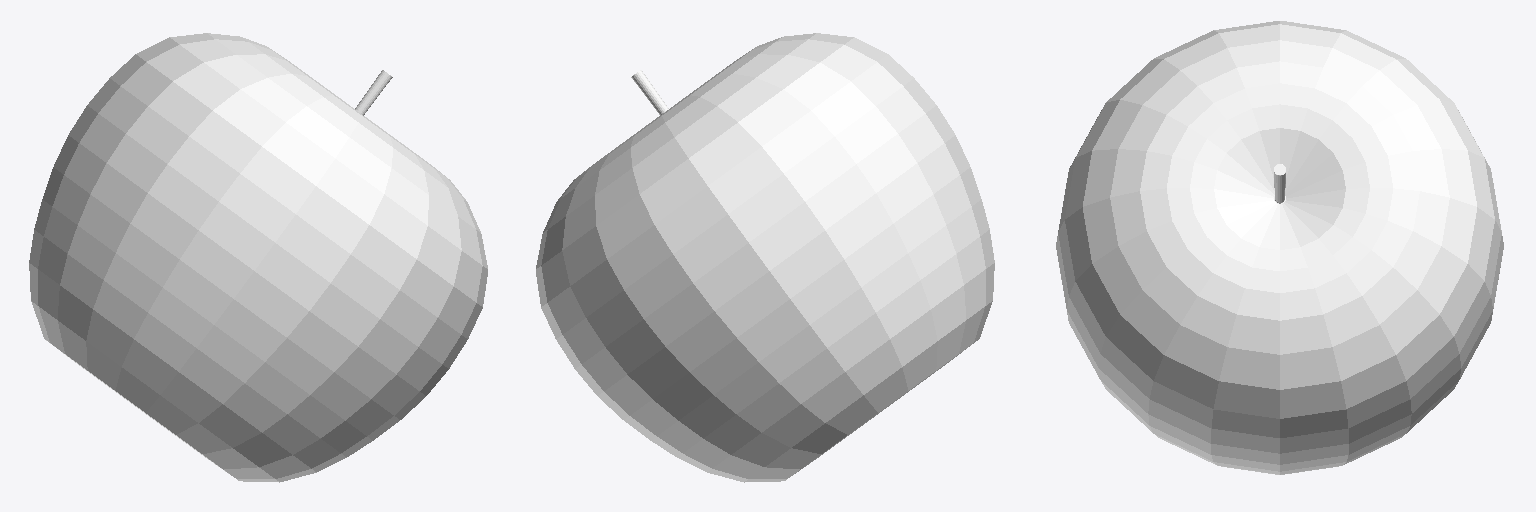
File: apple3d.obj
3 renders of one model, left to right at view 1: azimuth 30°, elevation 25°; view 2: azimuth 150°, elevation 25°; view 3: azimuth 270°, elevation 25°, orthographic.
Parts seen in each view (by area): view 1: pSphere2; view 2: pSphere2; view 3: pSphere2.
Part boxes in pixels (x1,y1,x2,y2): pSphere2: (29, 33, 487, 482); pSphere2: (536, 33, 994, 482); pSphere2: (1056, 21, 1503, 474).
Size of the model in its own units: 1.99 by 1.98 by 1.95.